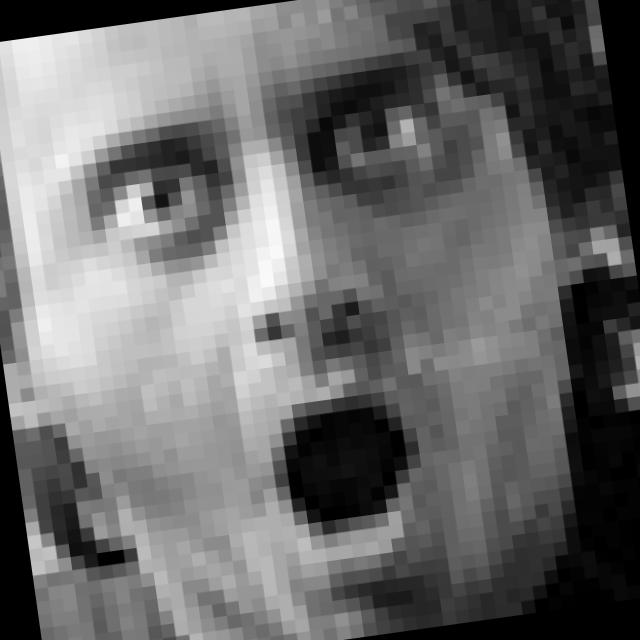surprise: (55, 31, 532, 618)
